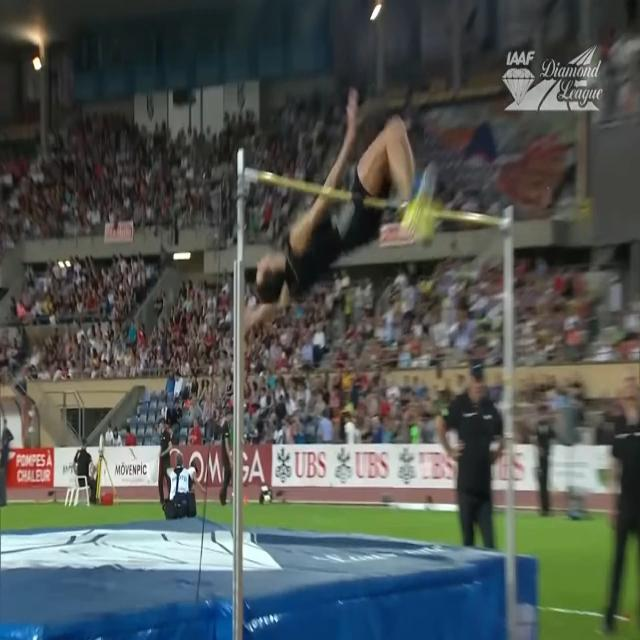jump: (240, 88, 440, 327)
